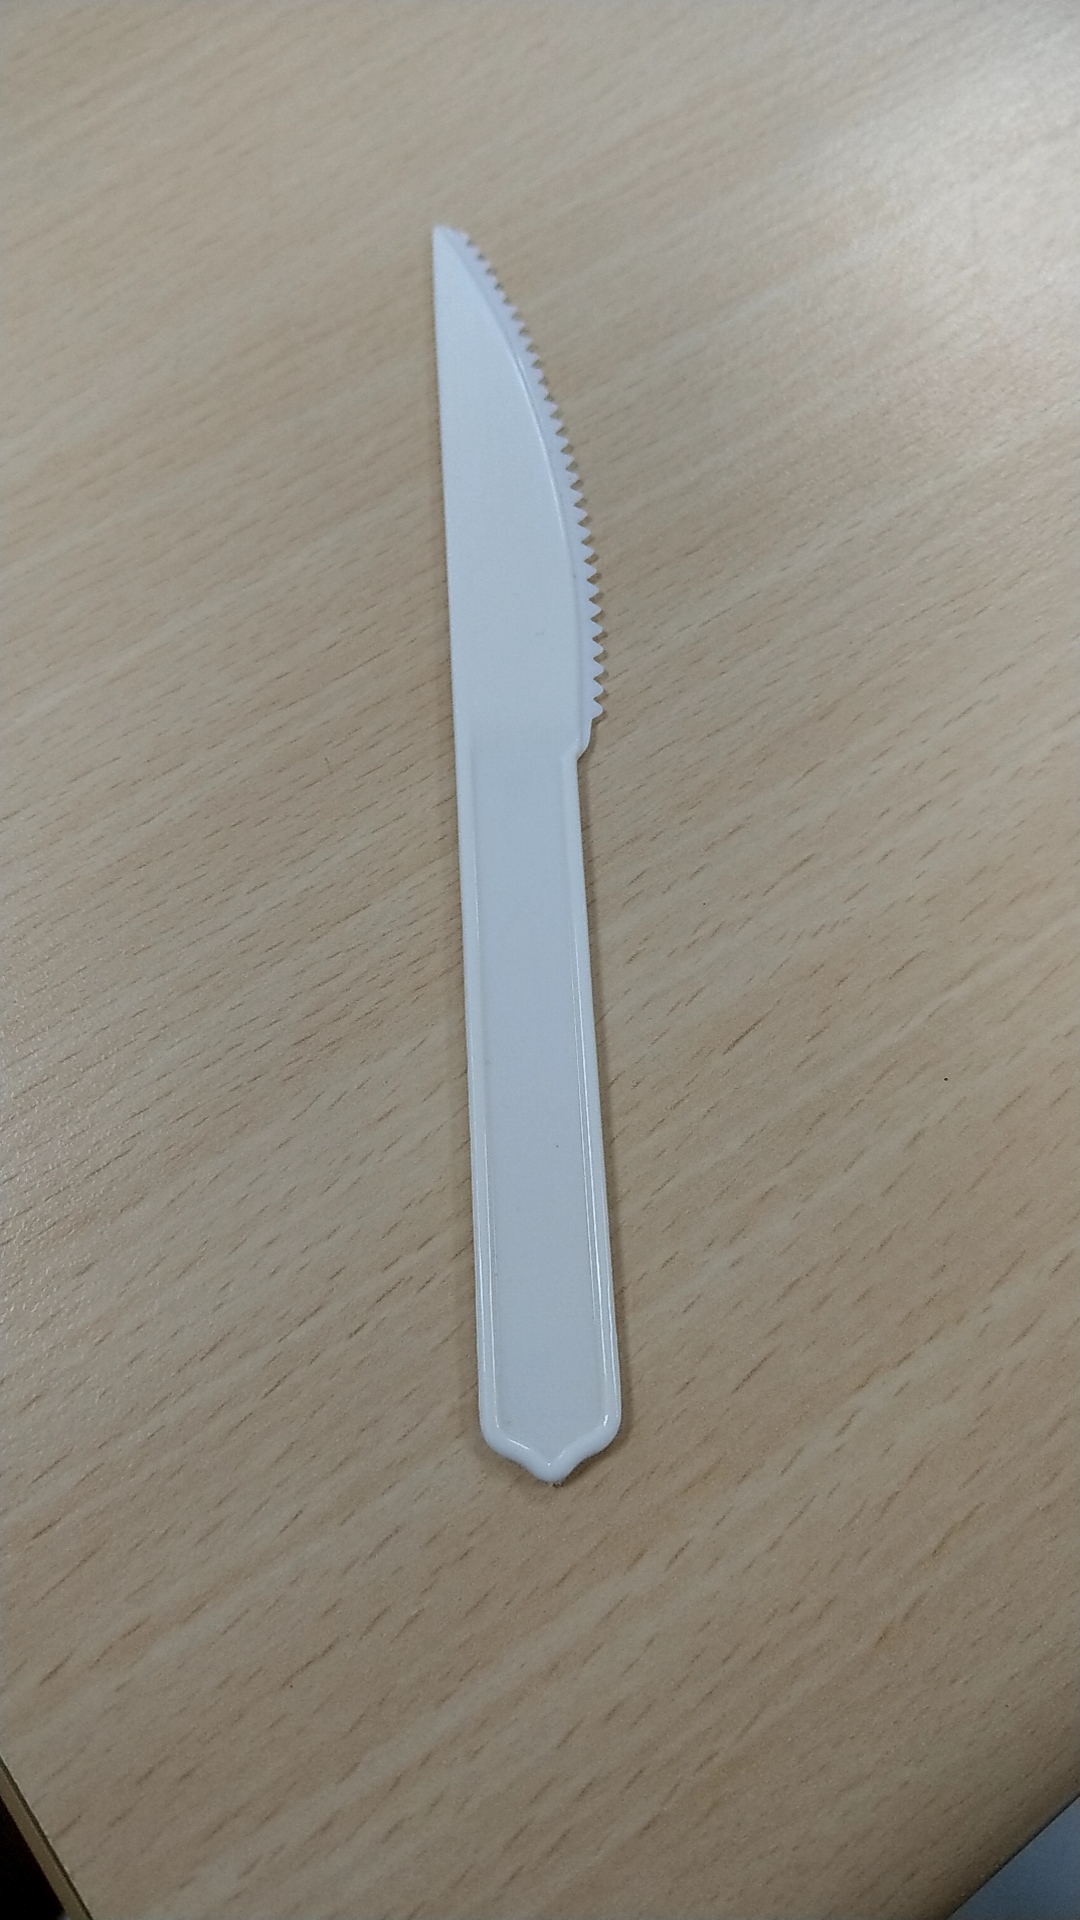knife: (377, 200, 676, 1514)
